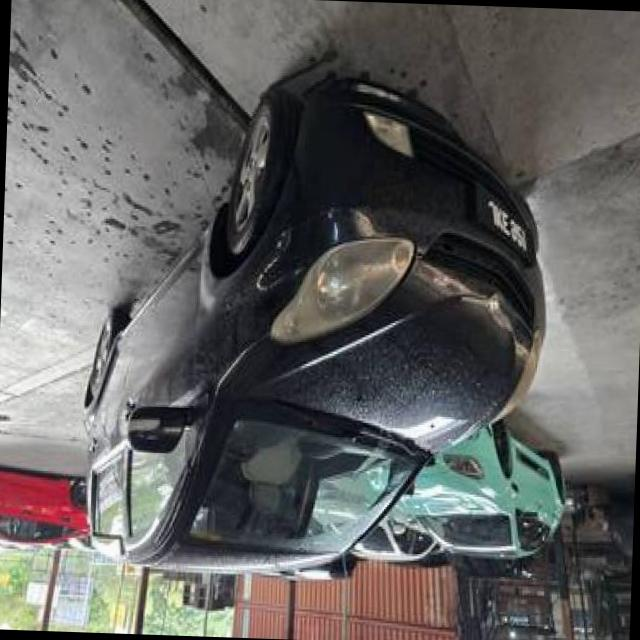PeroduaMyvi: (75, 64, 555, 589)
